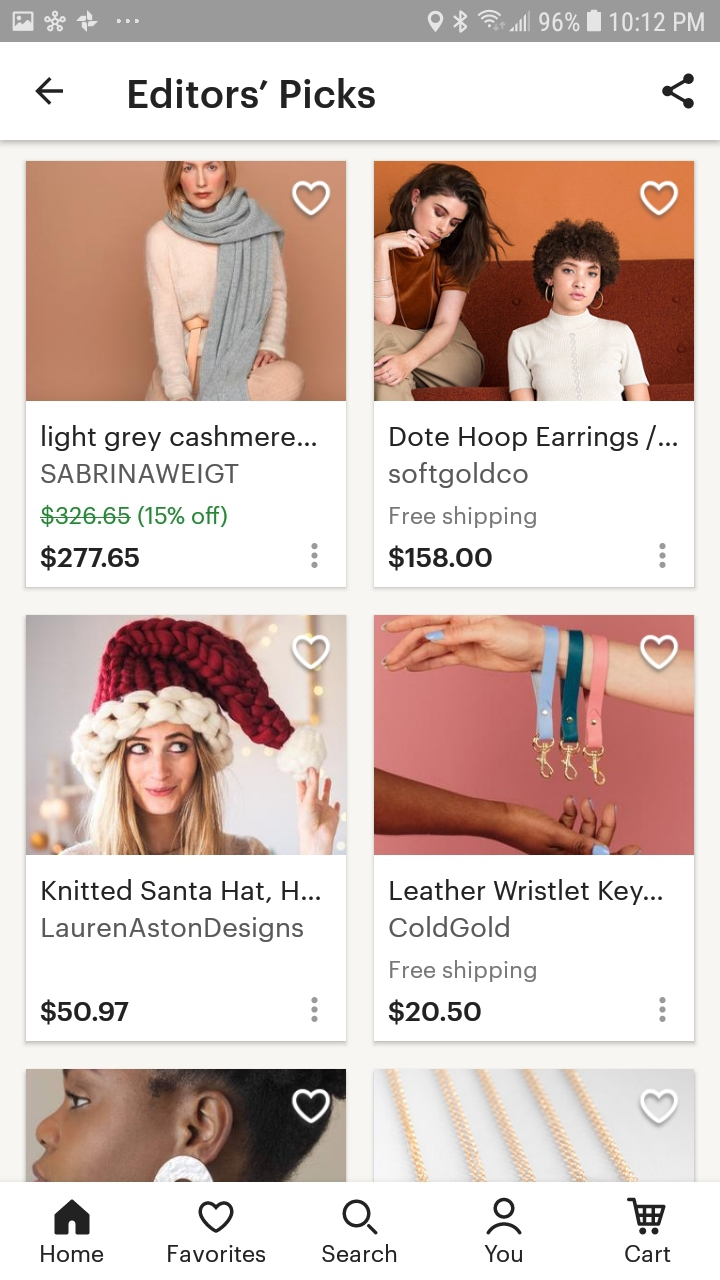Icon: (640, 1088, 679, 1125), (627, 1198, 666, 1235), (486, 1197, 523, 1236), (292, 1088, 331, 1124), (639, 635, 678, 671), (640, 181, 679, 217), (293, 182, 332, 217), (342, 1199, 378, 1235), (55, 1199, 91, 1235), (294, 636, 331, 670), (198, 1200, 235, 1233), (662, 74, 695, 110), (35, 78, 64, 106), (658, 542, 667, 569), (312, 997, 319, 1022), (659, 997, 666, 1022), (312, 543, 319, 568)
Image: (374, 616, 695, 856), (27, 616, 347, 856), (374, 162, 694, 402), (27, 162, 347, 402), (26, 1069, 347, 1182), (374, 1069, 693, 1182)
Text: (389, 425, 678, 489), (42, 879, 321, 942), (389, 878, 663, 938), (42, 425, 317, 484), (129, 79, 376, 110), (40, 505, 228, 528), (390, 960, 537, 984), (390, 505, 537, 529), (388, 545, 493, 572), (42, 546, 141, 572), (389, 998, 482, 1025), (42, 1000, 130, 1025), (168, 1244, 266, 1263), (322, 1244, 397, 1263), (42, 1244, 105, 1262), (625, 1245, 670, 1262), (484, 1244, 523, 1263)
UpperTaskBar: (2, 1, 720, 43)
